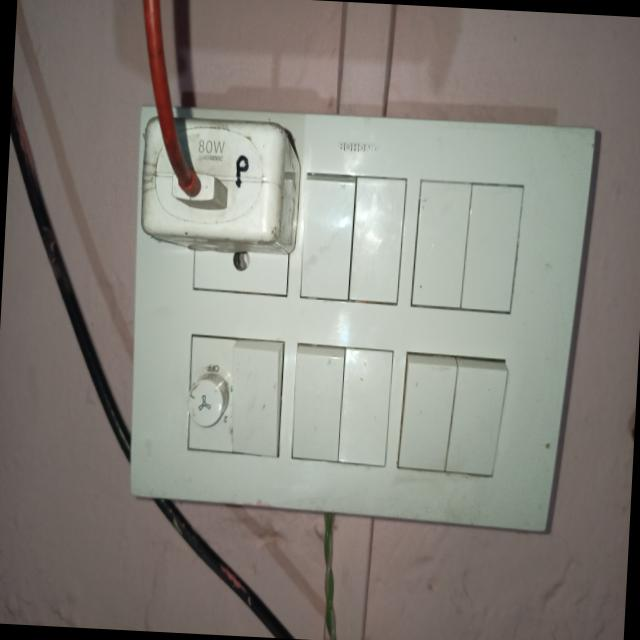plastic_box: (282, 87, 571, 558), (130, 56, 304, 312)
